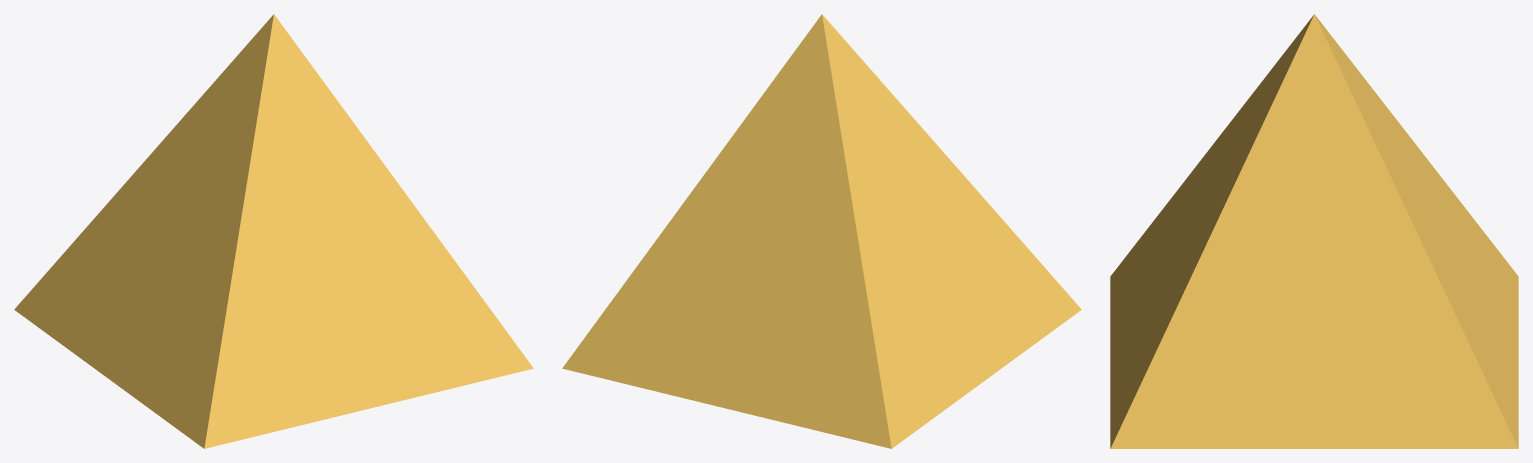
The picture shows the model from 3 angles, left to right: view 1: azimuth 30°, elevation 25°; view 2: azimuth 150°, elevation 25°; view 3: azimuth 270°, elevation 25°; orthographic projection. The views are drawn at different scales.
Visible parts, largest first — view 1: solid_pyramid; view 2: solid_pyramid; view 3: solid_pyramid.
Boxes of the visible parts, box(x1,y1,x2,y2) form: solid_pyramid: box(14, 14, 533, 448); solid_pyramid: box(562, 14, 1081, 448); solid_pyramid: box(1110, 14, 1518, 448).
Bounding box in the file's own units: 0.2121 × 0.2 × 0.2121.
